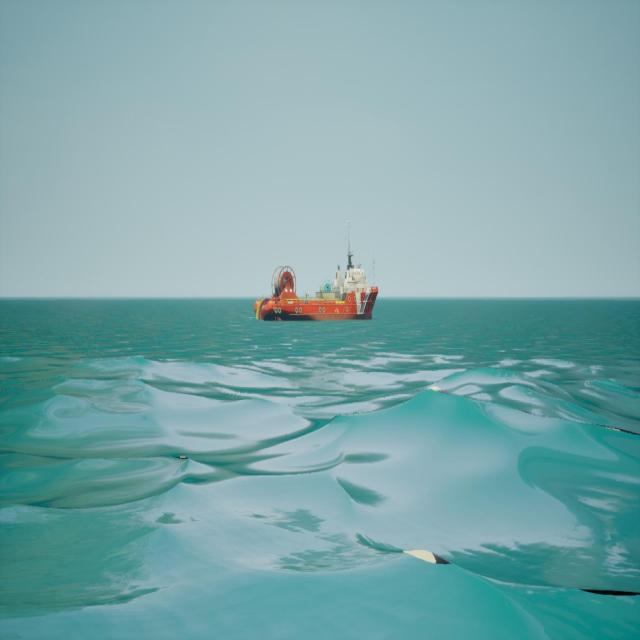tug boat: (256, 224, 381, 324)
